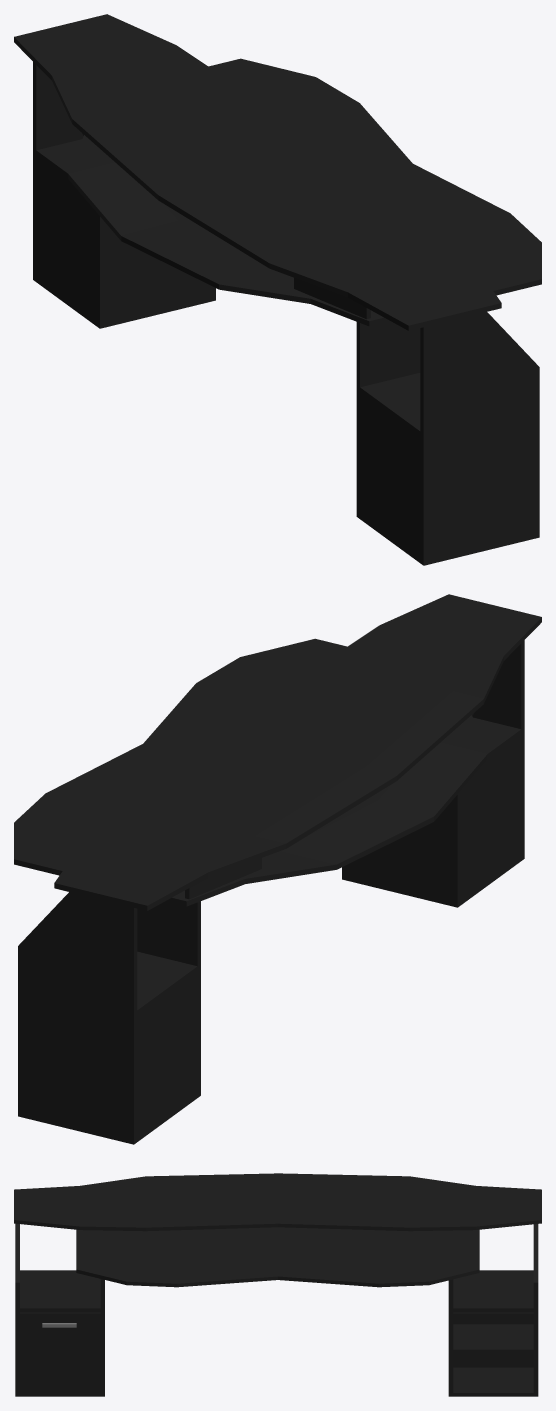
Rendered from scene_hacker_desk_01.fbx.
The picture shows the model from 3 angles, top to bottom: view 1: azimuth 30°, elevation 25°; view 2: azimuth 150°, elevation 25°; view 3: azimuth 270°, elevation 25°; orthographic projection. The views are drawn at different scales.
Visible parts, largest first — view 1: Cube.013; view 2: Cube.013; view 3: Cube.013.
Part boxes in pixels (bbox=[...]): Cube.013: bbox=[14, 14, 541, 565]; Cube.013: bbox=[14, 594, 541, 1144]; Cube.013: bbox=[14, 1173, 541, 1396].
Bounding box in the file's own units: 178 × 133 × 387.
